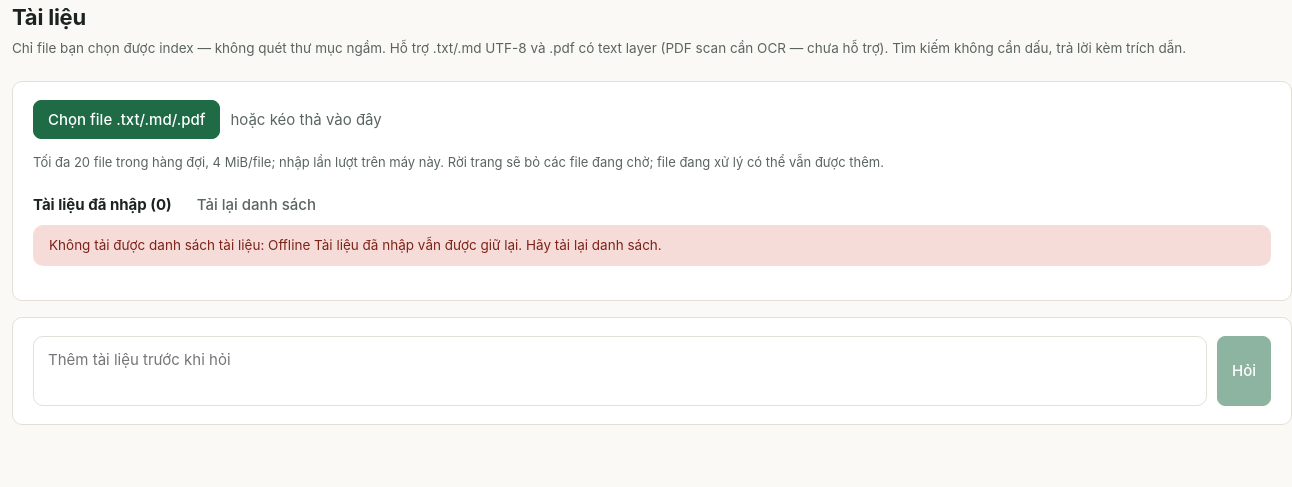
Test case: shows a recoverable list error without treating it as an empty library
Expected: the message is shown, [33, 225, 1271, 266]
Click the button "Tải lại danh sách".
click(256, 205)  # box [182, 185, 331, 225]
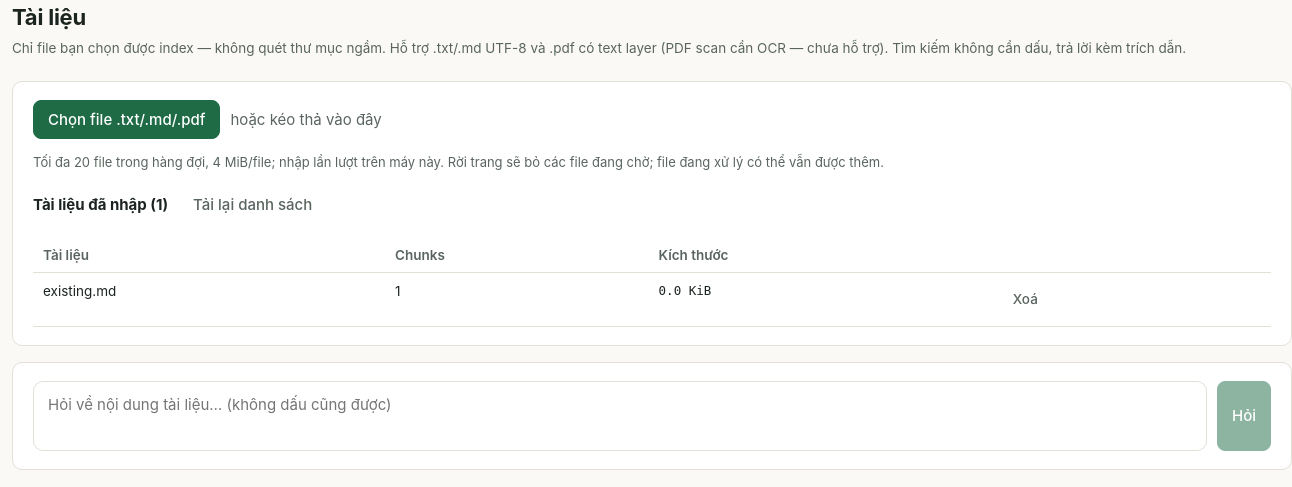
Result: the message is gone
